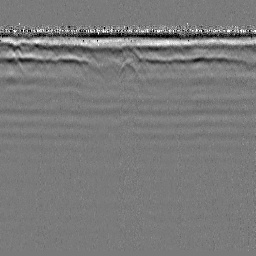cavity: (116, 55, 140, 80)
